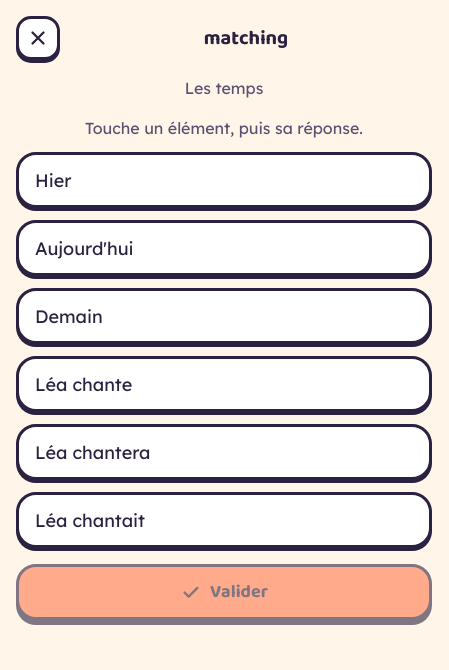
Test: GameScreen, matching › pairs a tapped left item with the answer tapped next, and shows the pair
Step 1. Click the button "Hier" → (53, 180), box left=16, top=152, right=432, bottom=208
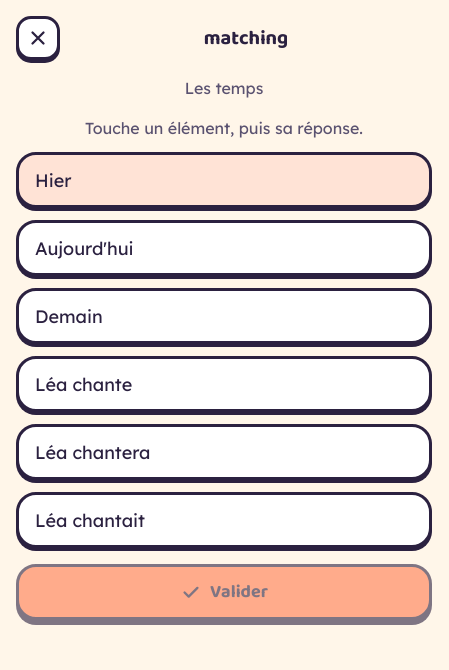
Expected: the button "Hier" is pressed, left=16, top=152, right=432, bottom=208
Step 2. Click the button "Léa chantait" → (90, 520), box left=16, top=492, right=432, bottom=548
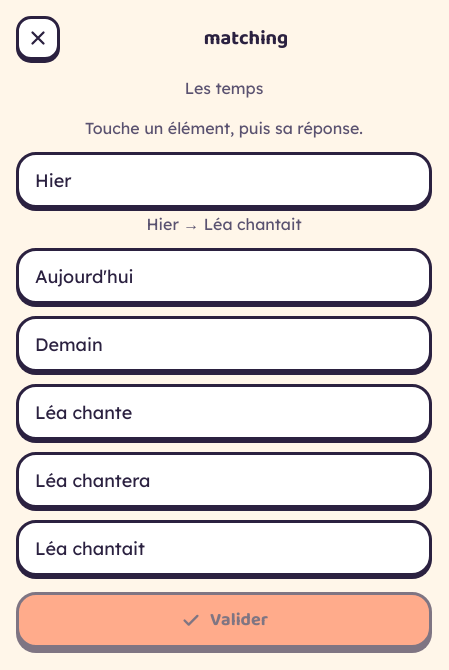
Expected: the text "Hier → Léa chantait" is shown, left=146, top=214, right=302, bottom=234
